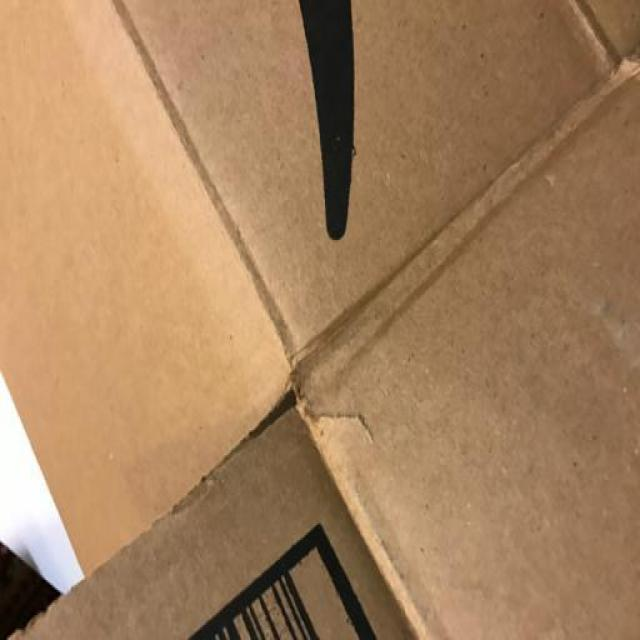cardboard: (2, 1, 640, 633)
